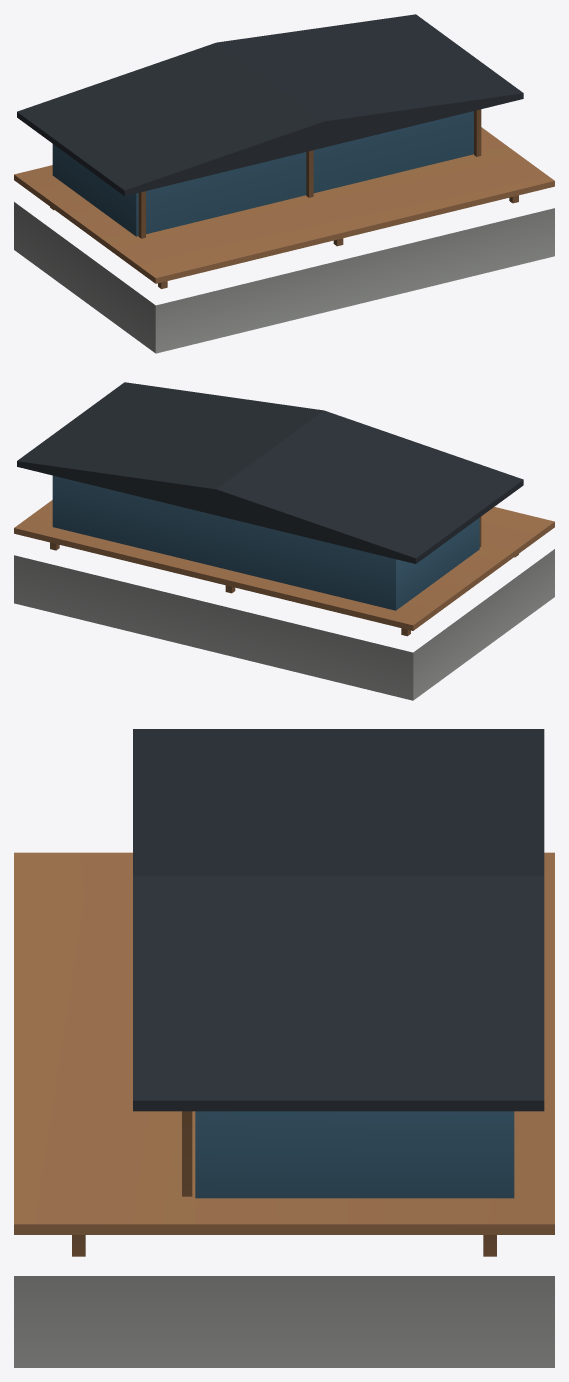
File: lakeside-pavilion.glb
3 renders of one model, top to bottom at view 1: azimuth 30°, elevation 25°; view 2: azimuth 150°, elevation 25°; view 3: azimuth 270°, elevation 25°, orthographic. The views are drawn at different scales.
Visible parts, largest first — view 1: lakeside-pavilion; view 2: lakeside-pavilion; view 3: lakeside-pavilion.
Part boxes in pixels (<box>): lakeside-pavilion: <box>14,14,554,353</box>; lakeside-pavilion: <box>14,382,554,700</box>; lakeside-pavilion: <box>14,729,554,1367</box>.
Size of the model in its own units: 26 by 10 by 16.
